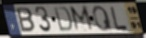3: (34, 5, 53, 33)
B: (15, 7, 36, 34)
D: (52, 6, 73, 33)
L: (109, 6, 129, 31)
M: (68, 6, 96, 34)
Q: (92, 5, 114, 32)
